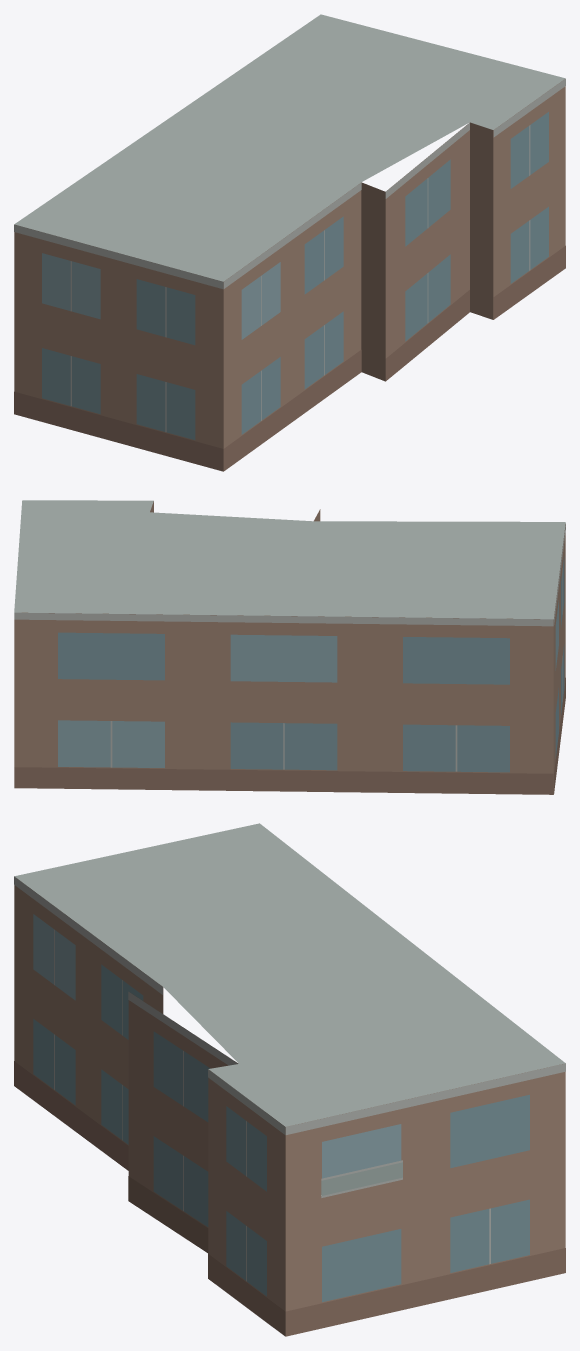
File: survey-upis-32790178.glb
The picture shows the model from 3 angles, top to bottom: view 1: azimuth 30°, elevation 25°; view 2: azimuth 150°, elevation 25°; view 3: azimuth 270°, elevation 25°; orthographic projection. The views are drawn at different scales.
Visible parts, largest first — view 1: survey-upis-32790178.tmp; view 2: survey-upis-32790178.tmp; view 3: survey-upis-32790178.tmp.
Part boxes in pixels (x1,y1,x2,y2): survey-upis-32790178.tmp: [14, 14, 565, 471]; survey-upis-32790178.tmp: [14, 500, 565, 794]; survey-upis-32790178.tmp: [14, 823, 565, 1336].
Size of the model in its own units: 18.96 by 6.1 by 14.56.
